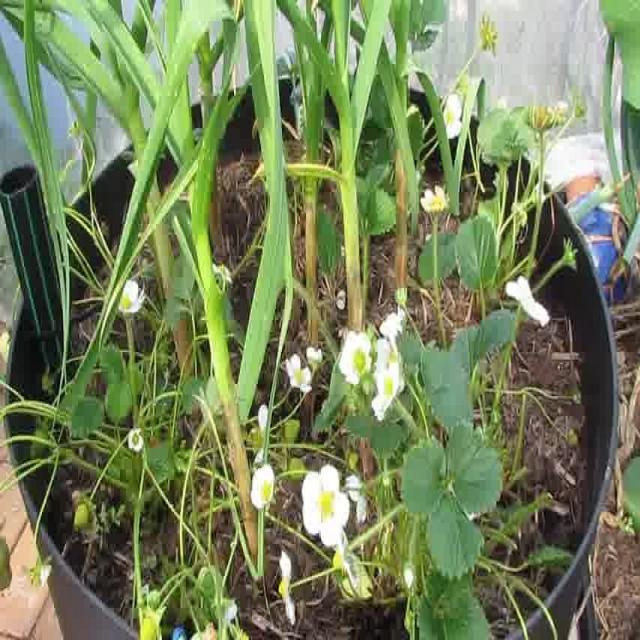Fruta sana: (72, 491, 96, 533), (139, 606, 166, 640), (30, 416, 48, 460), (276, 420, 300, 448), (0, 536, 12, 591), (286, 457, 308, 481), (41, 374, 54, 396), (348, 449, 360, 469)
Moho gris: (188, 619, 216, 640)
